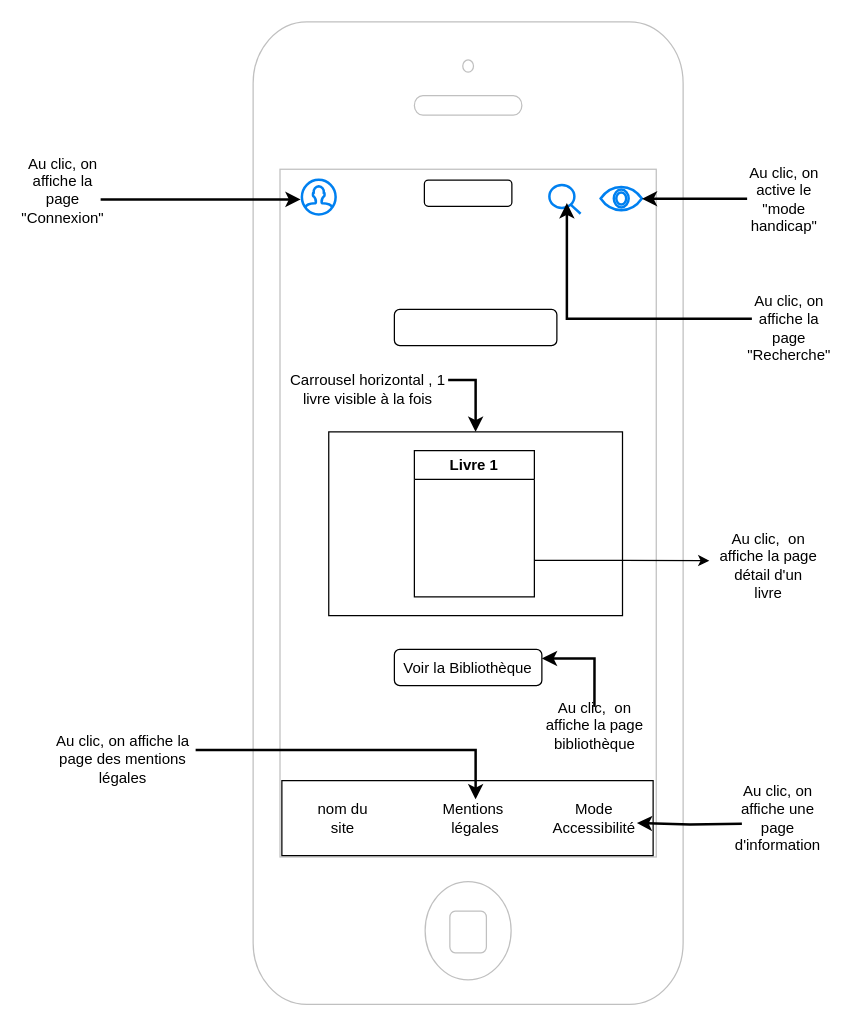
Image size: 853x1026. Some labels were removed from this diagram. Here are the shapes that lost their labels. From the top down, the box of each, then its label:
(423, 179, 512, 206): Logo
(393, 308, 557, 346): Coup de coeur des lecteurs
